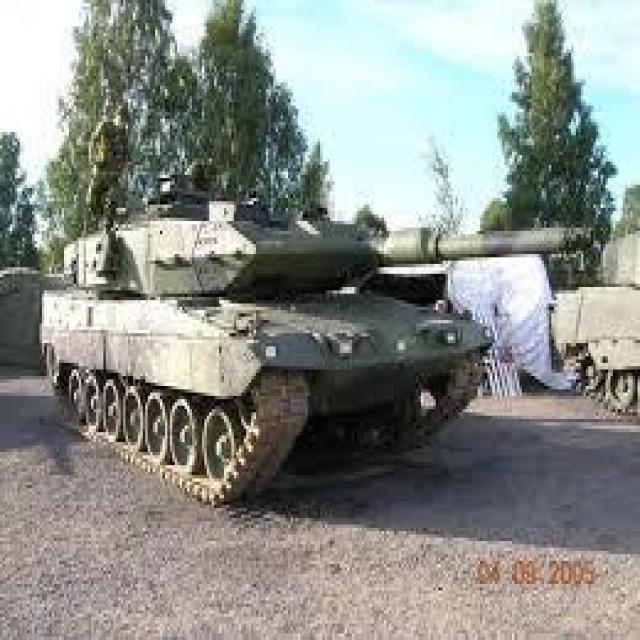Tanks: (27, 168, 611, 502)
